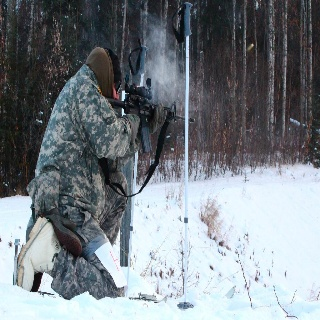rifle: (102, 77, 195, 154)
